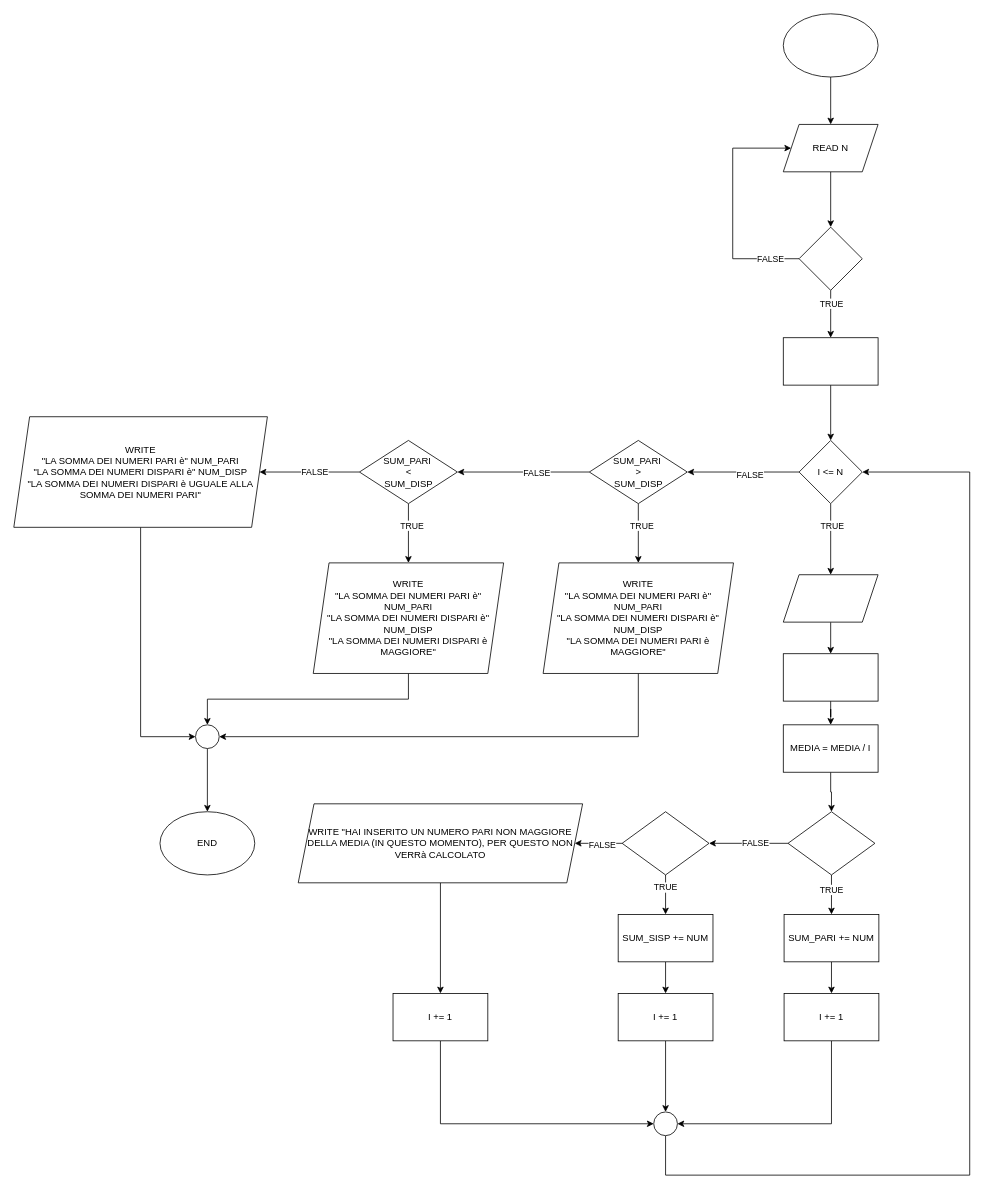
Image size: 990x1195. Some labels were removed from this diagram. Each missing label, with the box of its shape:
I = 1 MEDIA = 0 SUM_PARI = 0 SUM_DISP = 0: (782, 337, 878, 385)
MEDIA += NUM: (782, 653, 878, 701)
N % 1 == 0: (798, 226, 862, 290)
N % 2 == 0 AND N > MEDIA: (787, 811, 875, 875)
N % 2 == 1 OR N < MEDIA: (621, 811, 709, 875)
READ NUM: (782, 574, 878, 622)
START: (782, 13, 878, 77)
